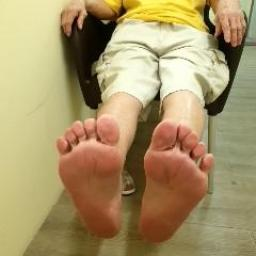Plantar View -Both Feet-: (37, 100, 224, 252)
